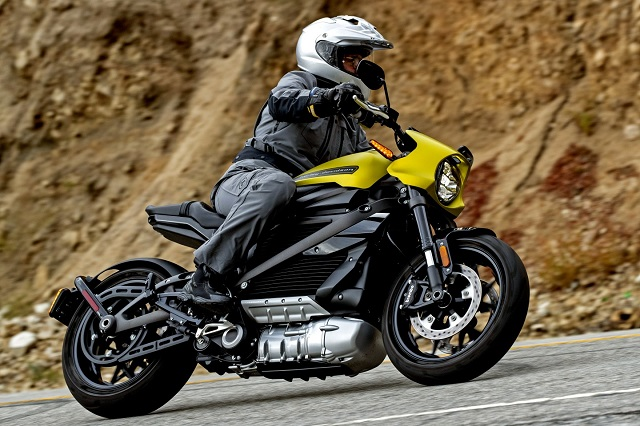bike: (61, 128, 529, 387)
person: (193, 13, 386, 301)
